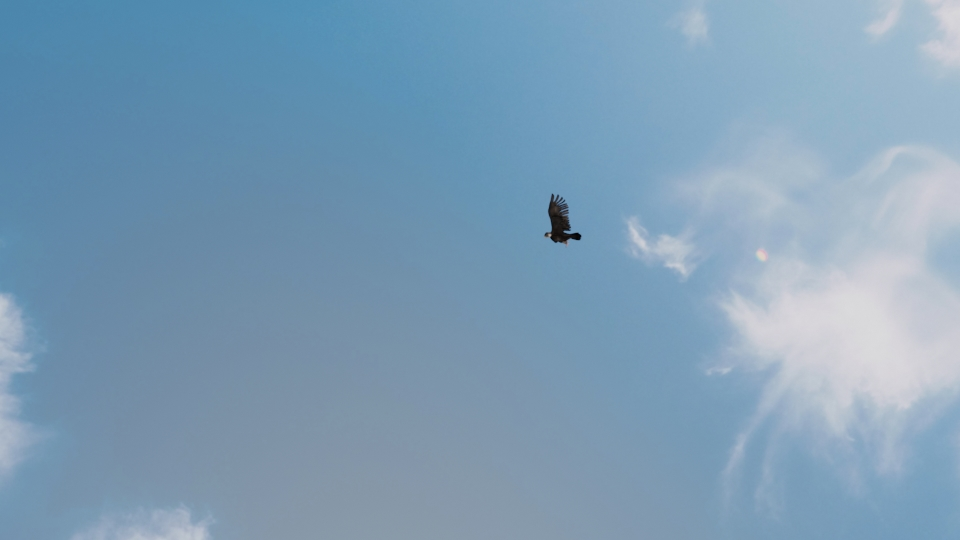bird: (543, 190, 584, 249)
